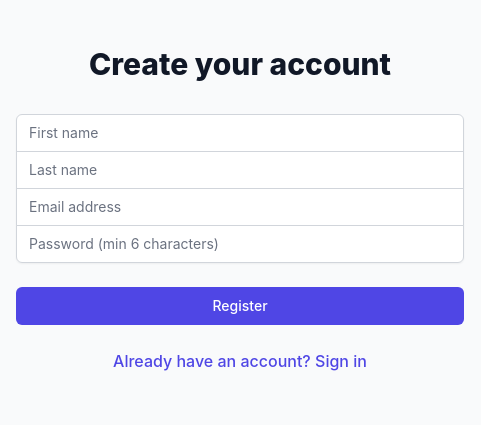
Test: Register › should show error for 409 conflict
In the field with placeholder "First name": (240, 132) [16,114,464,152], type "John"
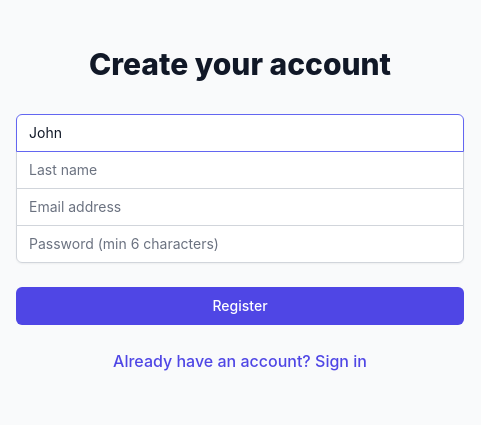
In the field with placeholder "Last name": (240, 170) [16,150,464,188], type "Doe"
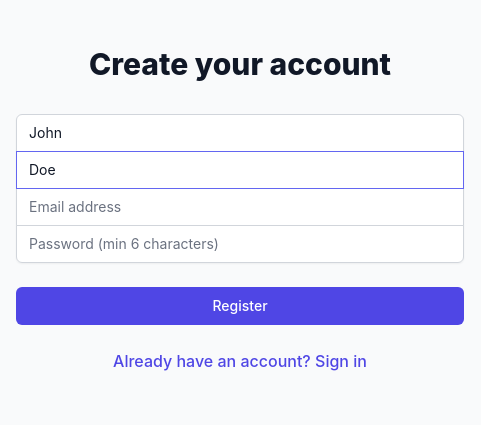
In the field with placeholder "Email address": (240, 206) [16,188,464,226], type "john@example.com"
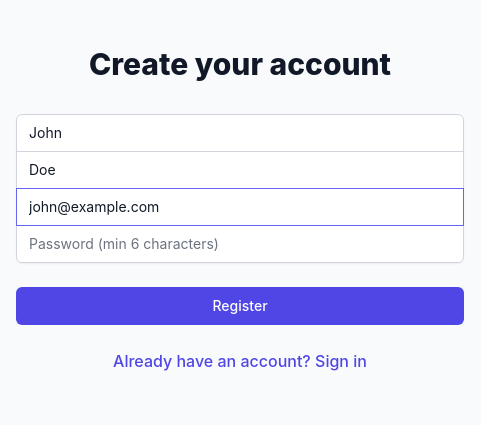
In the password field with placeholder "Password (min 6 characters)": (240, 244) [16,224,464,262], type "password1"
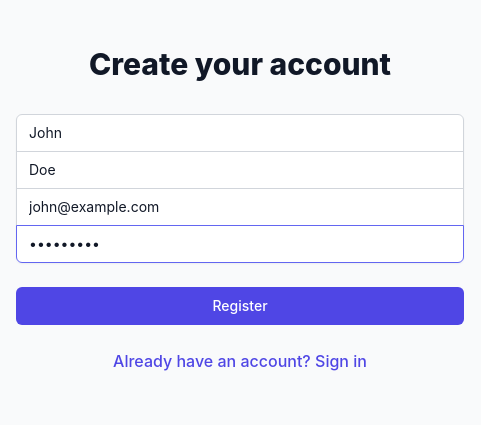
Click the button "Register": (240, 306) [16,286,464,324]
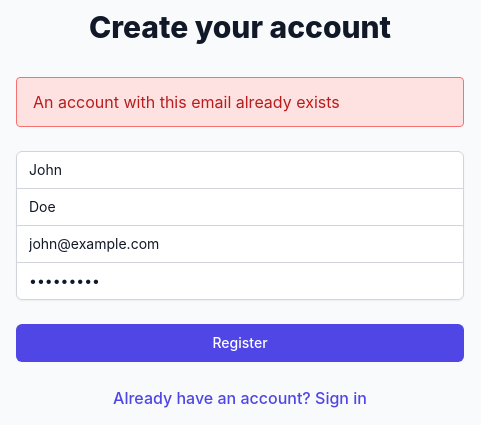
Check: the text "An account with this email already exists" is shown, box [16,76,464,126]
